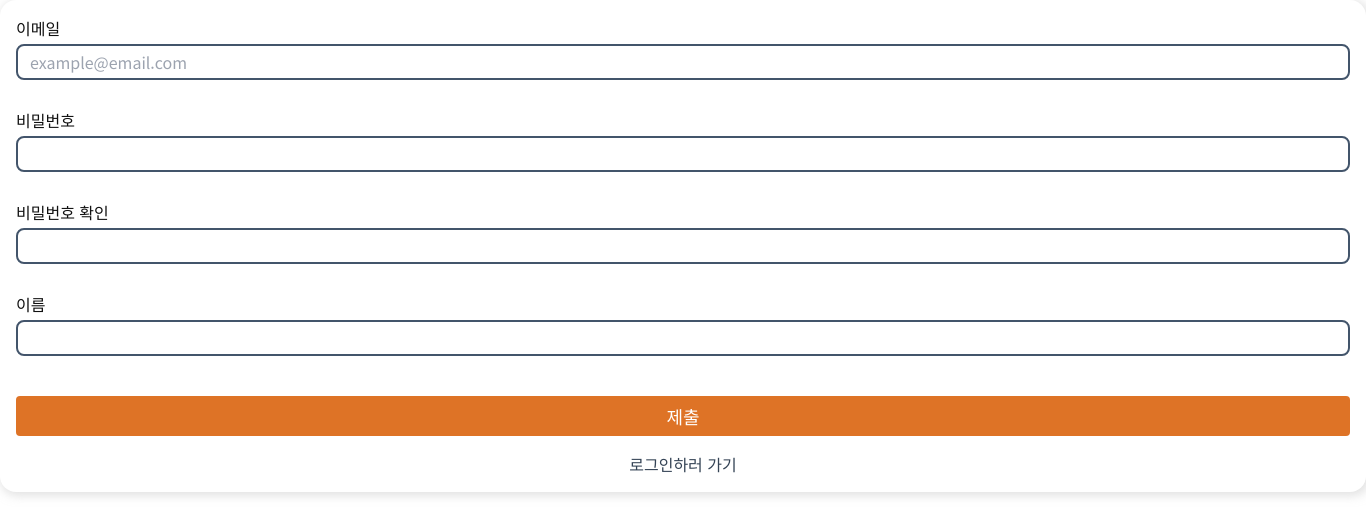
Member/SignupForm › 제출 버튼 › 아무것도 입력하지 않고 제출 버튼을 클릭하면, 모든 Input에 대한 validationMessage가 표시된다
Click the button with aria-label "submit". click: click(683, 416)
box: [16,396,1350,436]
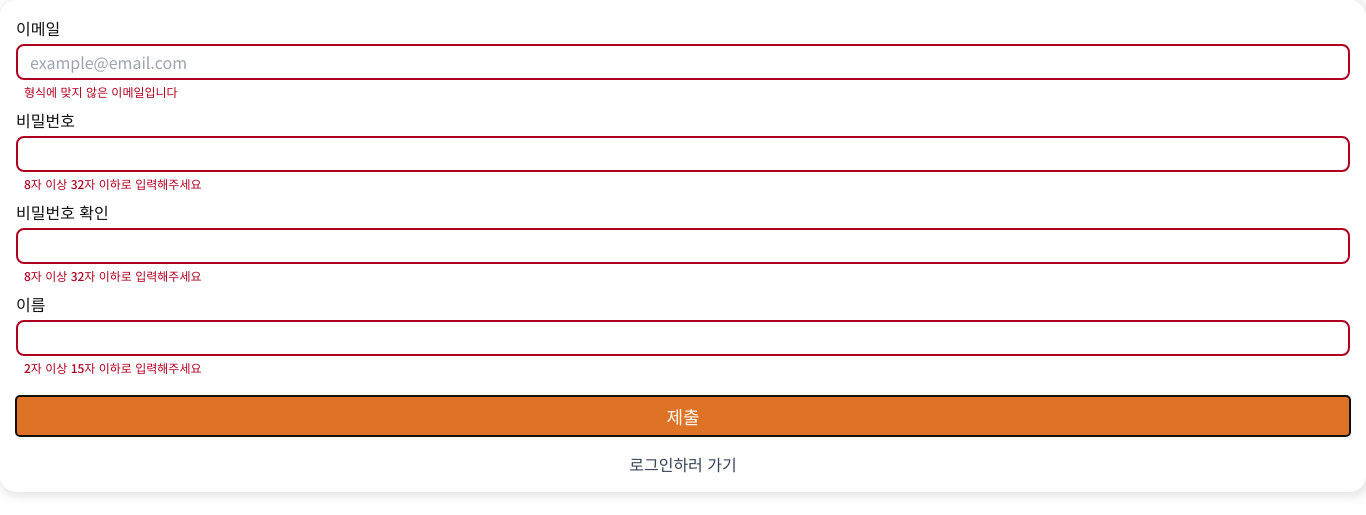
expect the text "8자 이상 32자 이하로 입력해주세요" is shown 2 times: met, box [24,175,202,192]; [24,267,202,284]
expect the text "형식에 맞지 않은 이메일입니다" is shown: met, box [24,83,178,100]
expect the text "2자 이상 15자 이하로 입력해주세요" is shown: met, box [24,359,202,376]
